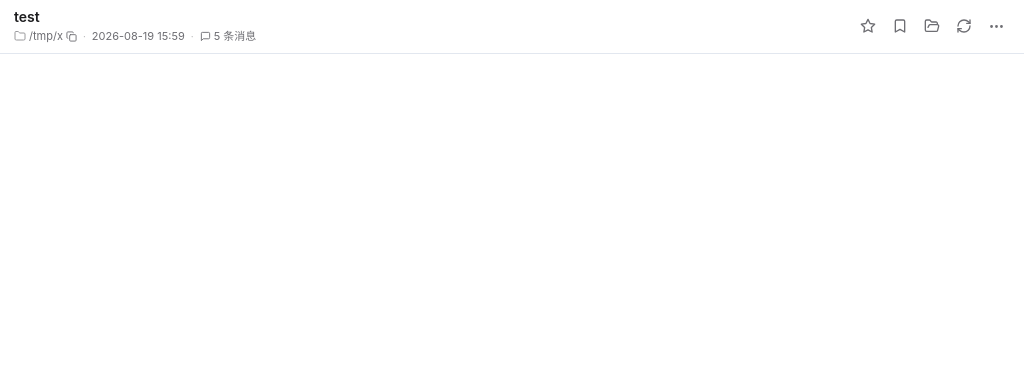
SessionHeader more-menu dropdown items & events › opens more-menu with all secondary action items and a11y attributes
Click the button with class "header-btn-more": x=996, y=26 [982,12,1010,40]
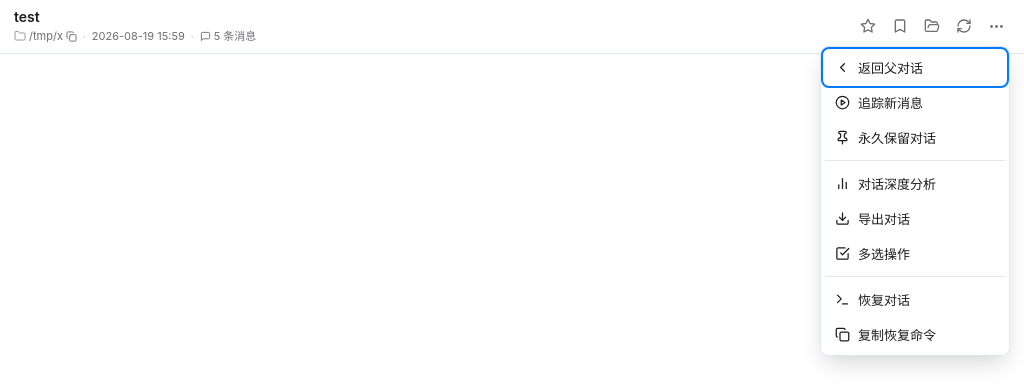
Expected: the menu with class "more-menu" is shown, [820,46,1010,356]
Expected: the menu with class "more-menu" shows "追踪新消息", [825,86,1005,119]
Expected: the menu with class "more-menu" shows "永久保留对话", [825,121,1005,154]
